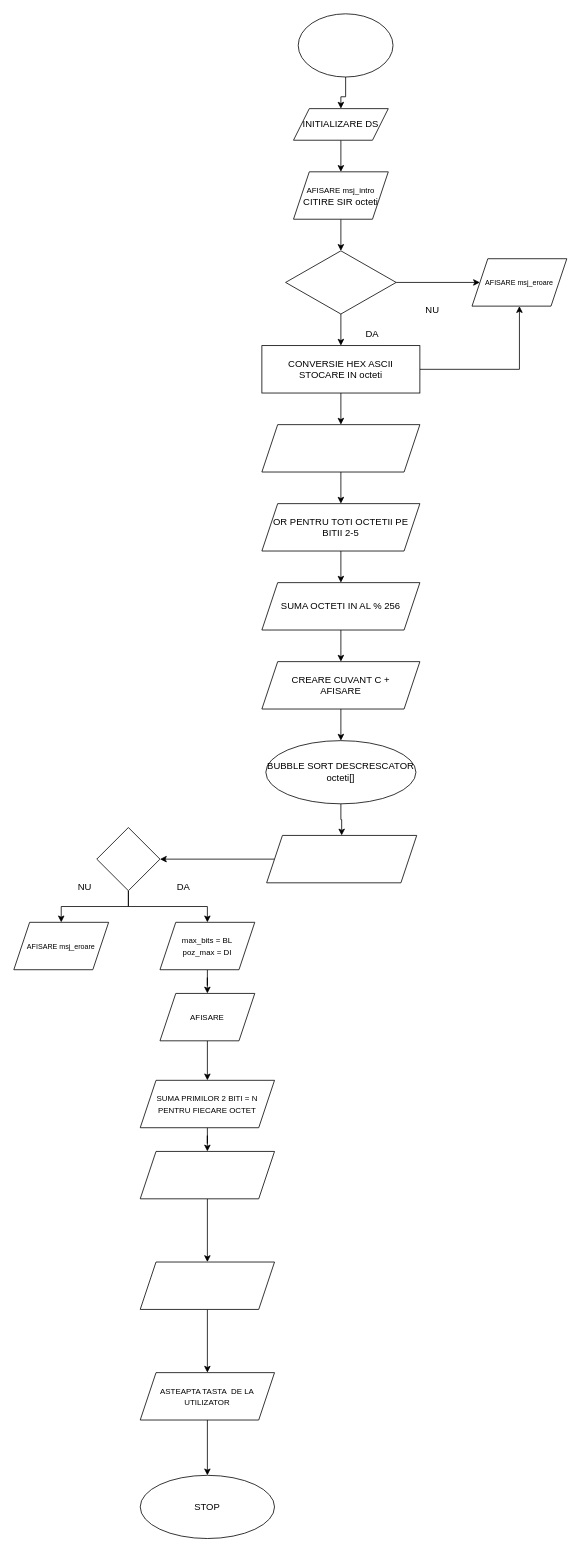
Some shapes in this 581 by 1552 pixel diagram are drawn without their labels. The shapes that lost their labels are listed below. From the top down, each one's box as (x1, y1, x2, y2) in pixels, then its label:
(297, 13, 393, 77): START
(285, 250, 396, 314): 8 <= nocteti <= 16
(261, 424, 420, 472): DL = SEMI-OCTET SUPERIOR octet[0] XOR SEMI-OCTET INFERIOR octet[last[
(96, 827, 160, 891): BL > 3 ?
(266, 835, 417, 883): CAUTARE POZITIE MAX BITI 1
(139, 1151, 275, 1199): ROTIRE SPRE STANGA CU N POZITII
(139, 1261, 275, 1309): AFISARE HEXA SI BINAR
